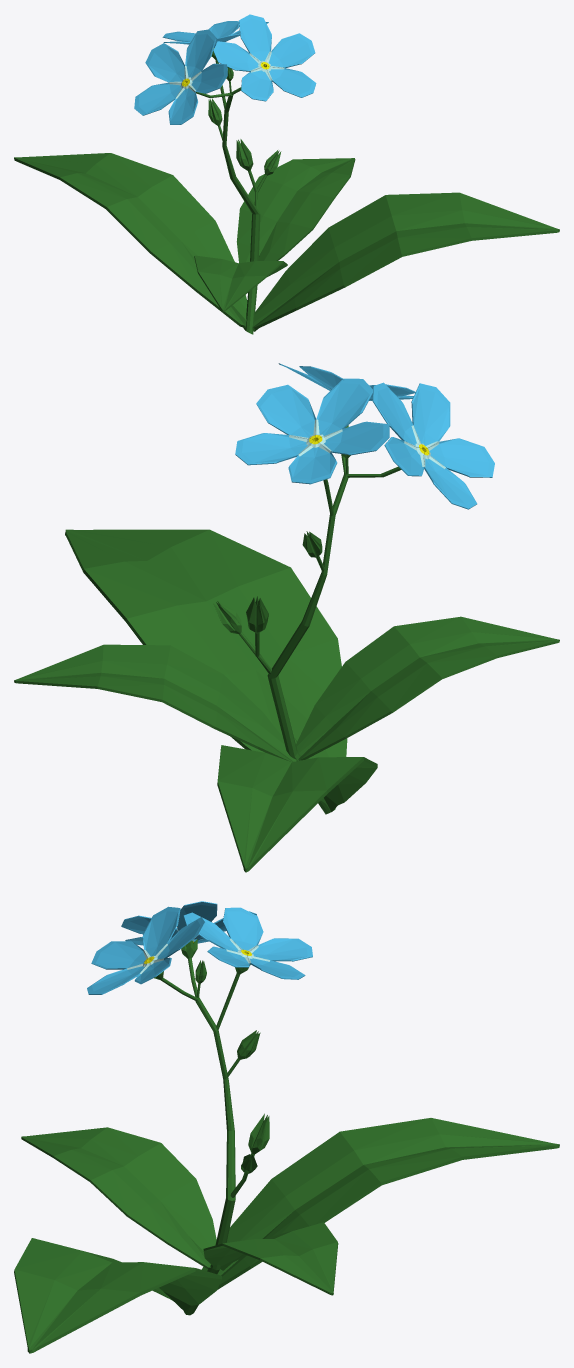
File: fmn2-stage3.glb
3 views of the same model, one above another, from view 1: azimuth 30°, elevation 25°; view 2: azimuth 150°, elevation 25°; view 3: azimuth 270°, elevation 25° (orthographic). The views are drawn at different scales.
Visible parts, largest first — view 1: Leaf.008, Leaf.007, Leaf.010, Petal.003, Petal.002, Leaf.009, Stem.005, Petal.004; view 2: Leaf.008, Leaf.009, Leaf.010, Leaf.007, Petal.004, Petal.002, Stem.005, Petal.003; view 3: Leaf.007, Leaf.009, Leaf.008, Leaf.010, Petal.003, Petal.004, Stem.005, Petal.002, ClosedPetal.005.
Part boxes in pixels (x1,y1,x2,y2): Leaf.008: (252,192,559,331); Leaf.007: (14,153,247,329); Leaf.010: (236,158,355,262); Petal.003: (213,14,316,101); Petal.002: (134,29,227,124); Leaf.009: (194,255,287,312); Stem.005: (222,92,260,334); Petal.004: (162,21,268,59); Leaf.008: (65,529,347,759); Leaf.009: (296,616,559,760); Leaf.010: (14,644,296,761); Leaf.007: (217,745,377,872); Petal.004: (235,378,389,484); Petal.002: (372,382,494,509); Stem.005: (267,473,348,814); Petal.003: (278,363,416,400); Leaf.007: (202,1118,559,1289); Leaf.009: (21,1127,216,1269); Leaf.008: (14,1238,221,1353); Leaf.010: (203,1222,338,1295); Petal.003: (87,906,205,994); Petal.004: (183,907,312,979); Stem.005: (184,998,235,1315); Petal.002: (121,901,256,958); ClosedPetal.005: (248,1113,269,1154).
Bounding box in the file's own units: 0.4153 × 0.353 × 0.4415.
